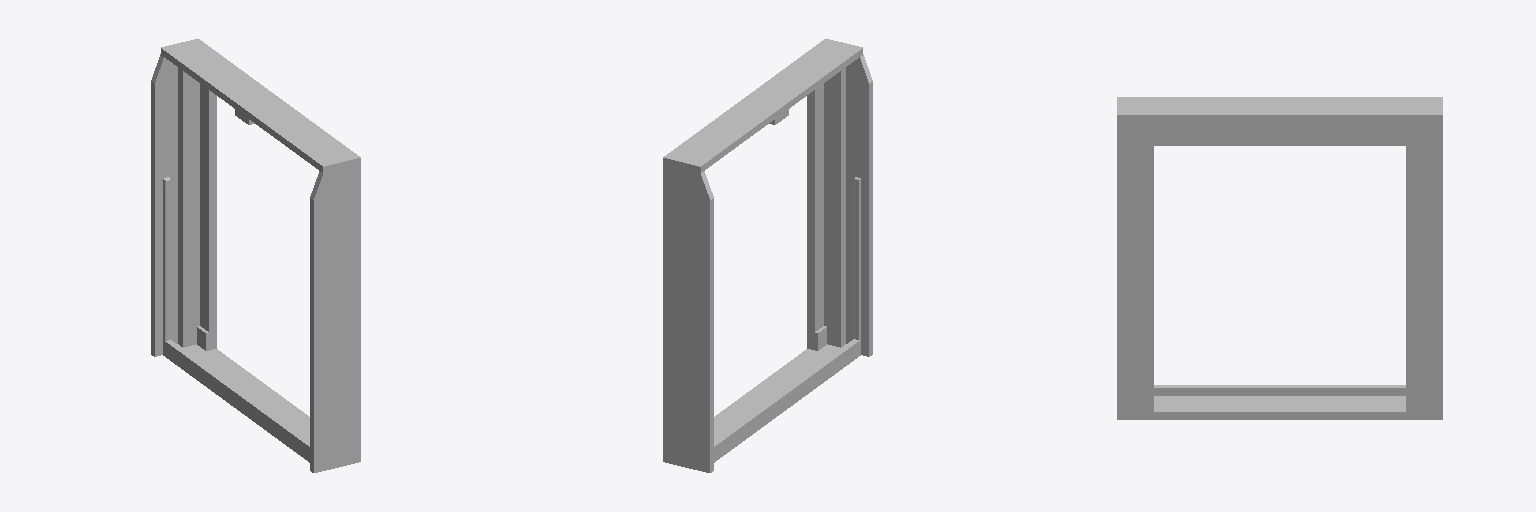
Rendered from Prints_led_cap.001.obj.
3 renders of one model, left to right at view 1: azimuth 30°, elevation 25°; view 2: azimuth 150°, elevation 25°; view 3: azimuth 270°, elevation 25°, orthographic.
Visible parts, largest first — view 1: led_cap.001; view 2: led_cap.001; view 3: led_cap.001.
Boxes of the visible parts, x1,y1,x2,y2 form: led_cap.001: [151, 39, 360, 472]; led_cap.001: [663, 39, 872, 472]; led_cap.001: [1117, 97, 1442, 419].
Size of the model in its own units: 0.0076 by 0.0467 by 0.0452.